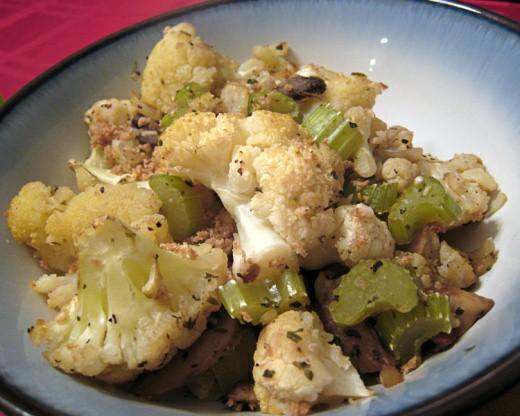AlooGobi: (9, 22, 507, 416)
